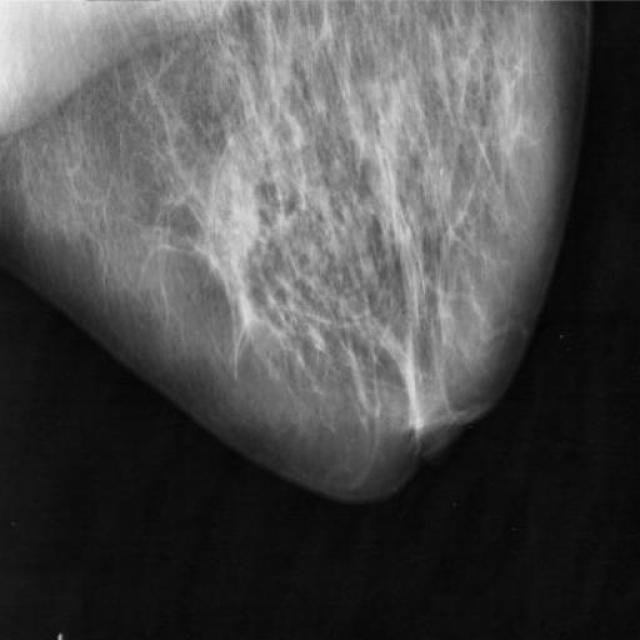cancer: (224, 280, 271, 364)
